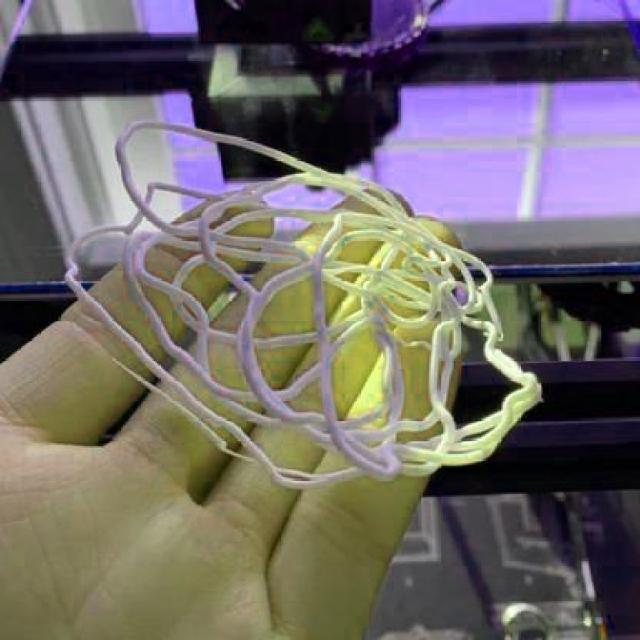spaghetti: (61, 114, 545, 495)
